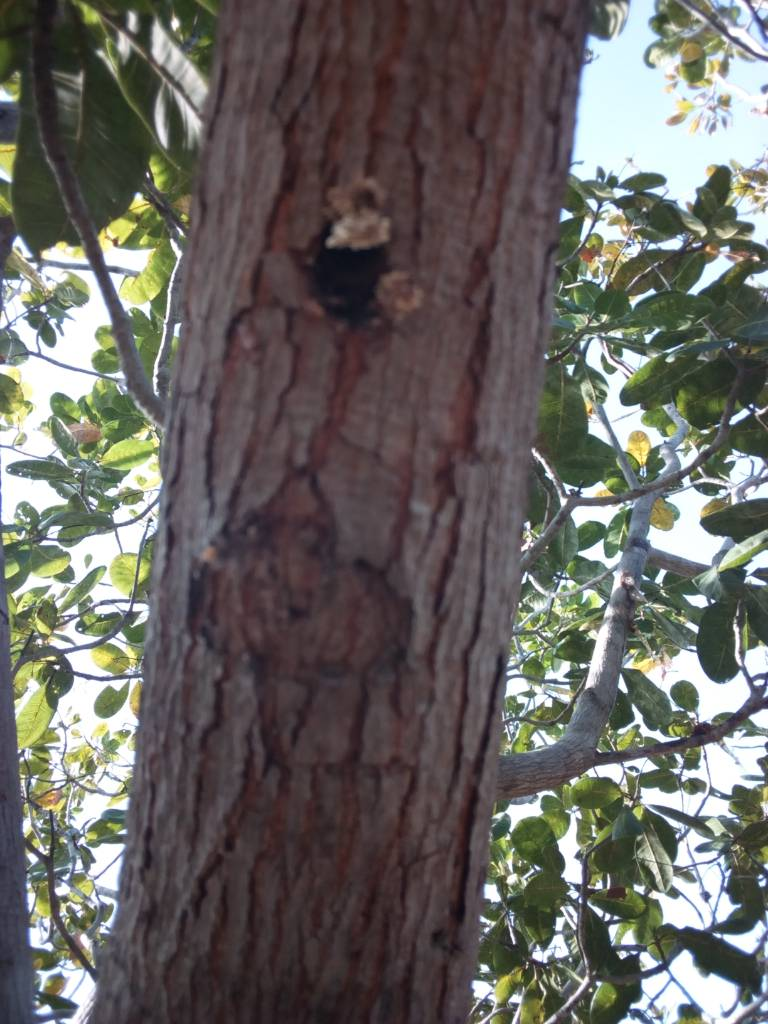Apate terebrans: (263, 203, 477, 344)
